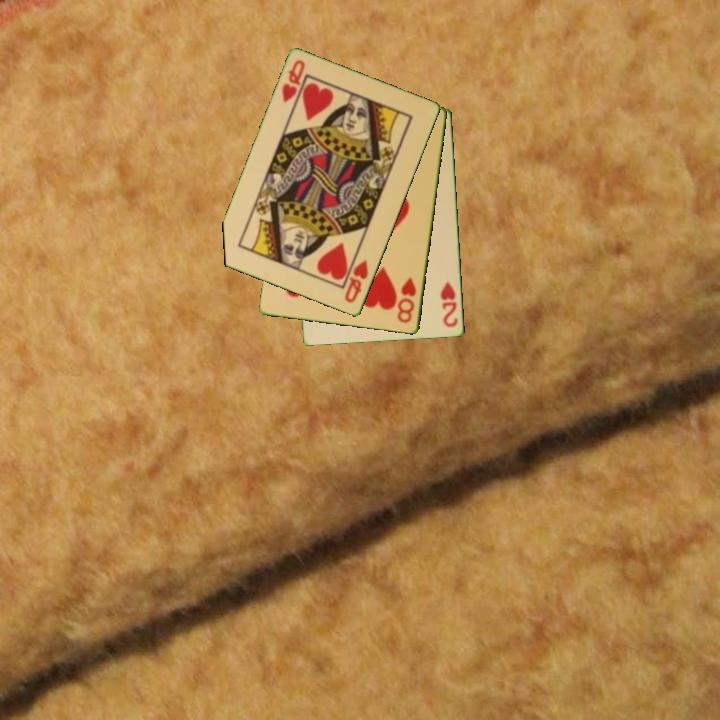2h: (438, 279, 461, 330)
8h: (394, 274, 419, 326)
Qh: (278, 56, 308, 106), (341, 257, 371, 306)
